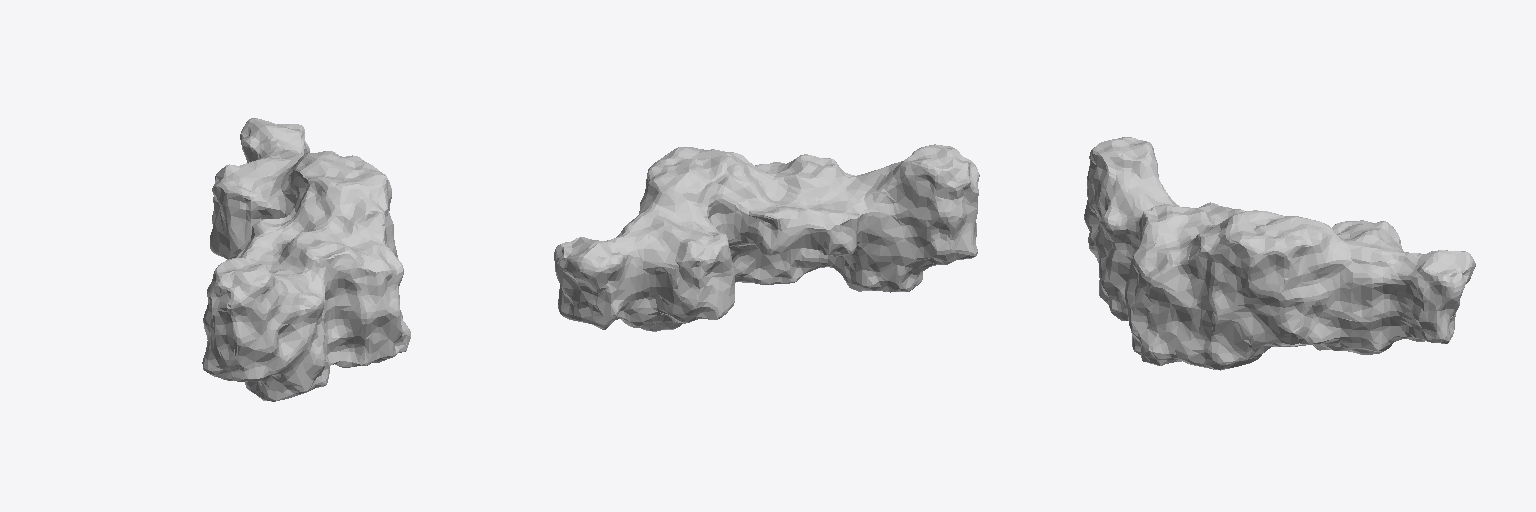
Rendered from rocks_03.obj.
3 views of the same model, side by side, from view 1: azimuth 30°, elevation 25°; view 2: azimuth 150°, elevation 25°; view 3: azimuth 270°, elevation 25° (orthographic).
Visible parts, largest first — view 1: rocks_03; view 2: rocks_03; view 3: rocks_03.
Boxes of the visible parts, box(x1,y1,x2,y2) form: rocks_03: box(202, 118, 410, 401); rocks_03: box(554, 144, 979, 331); rocks_03: box(1084, 137, 1475, 370).
Size of the model in its own units: 271 by 146 by 352.